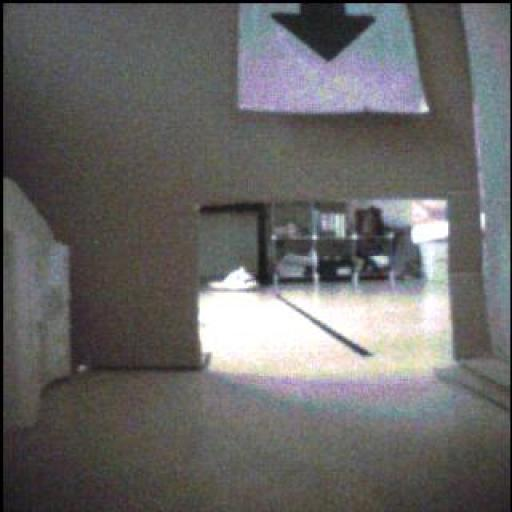arrow: (273, 4, 375, 62)
